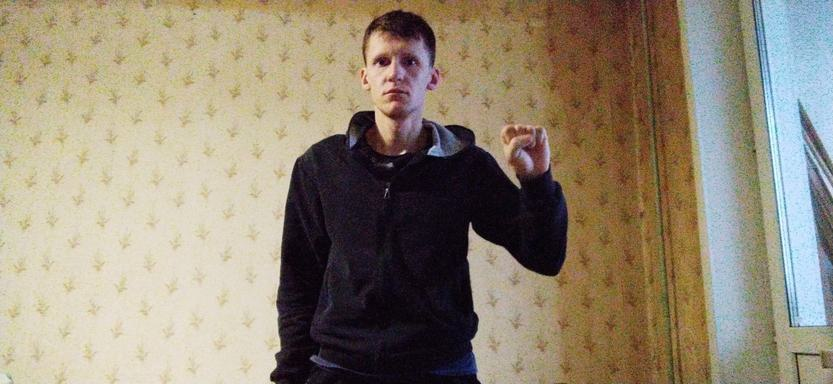fist: (499, 119, 557, 183)
